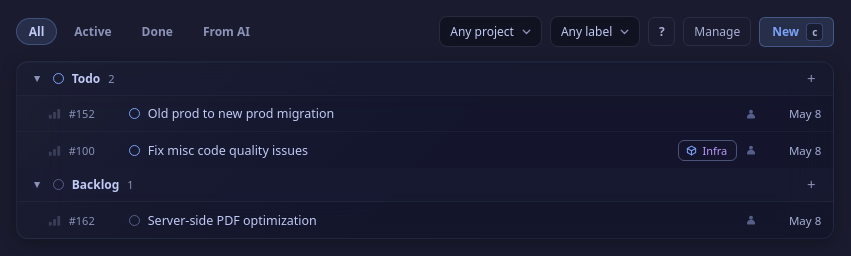
Test: TodosPage grouping › collapsing a group hides its rows and persists to localStorage
Check: the text "Old prod to new prod migration" is shown, box [148,105,334,122]
Click the button named "Collapse Todo": (37, 78) [29,70,45,86]
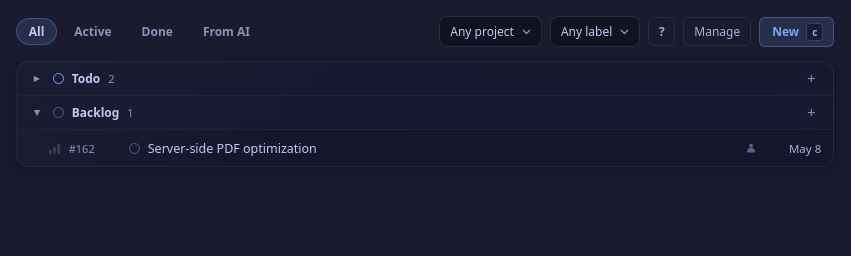
Check: the text "Server-side PDF optimization" is shown, box [148,140,317,156]
Check: the button "Old prod to new prod migration" is gone
